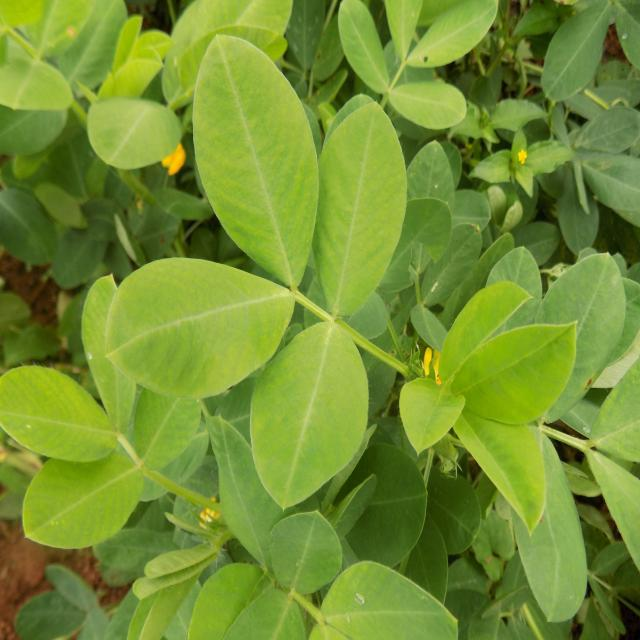Ground nut_healthy: (194, 35, 320, 286), (103, 253, 296, 396), (251, 322, 370, 508), (313, 98, 406, 310), (21, 445, 154, 550), (2, 363, 120, 465)
